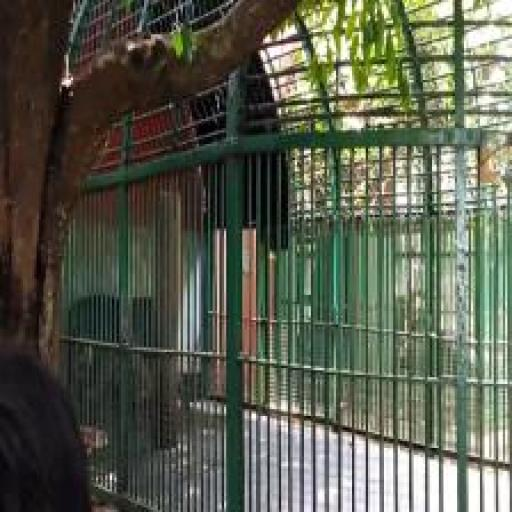Tiger: (62, 279, 169, 411)
